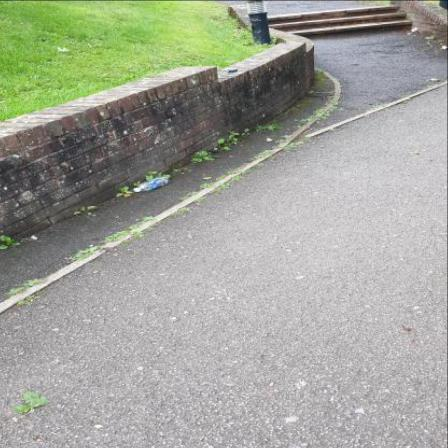Bottle: (135, 177, 171, 193)
Bottle cap: (136, 189, 142, 193)
Carton: (225, 68, 239, 73)
